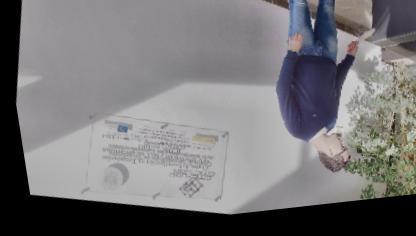knife: (340, 28, 378, 63)
